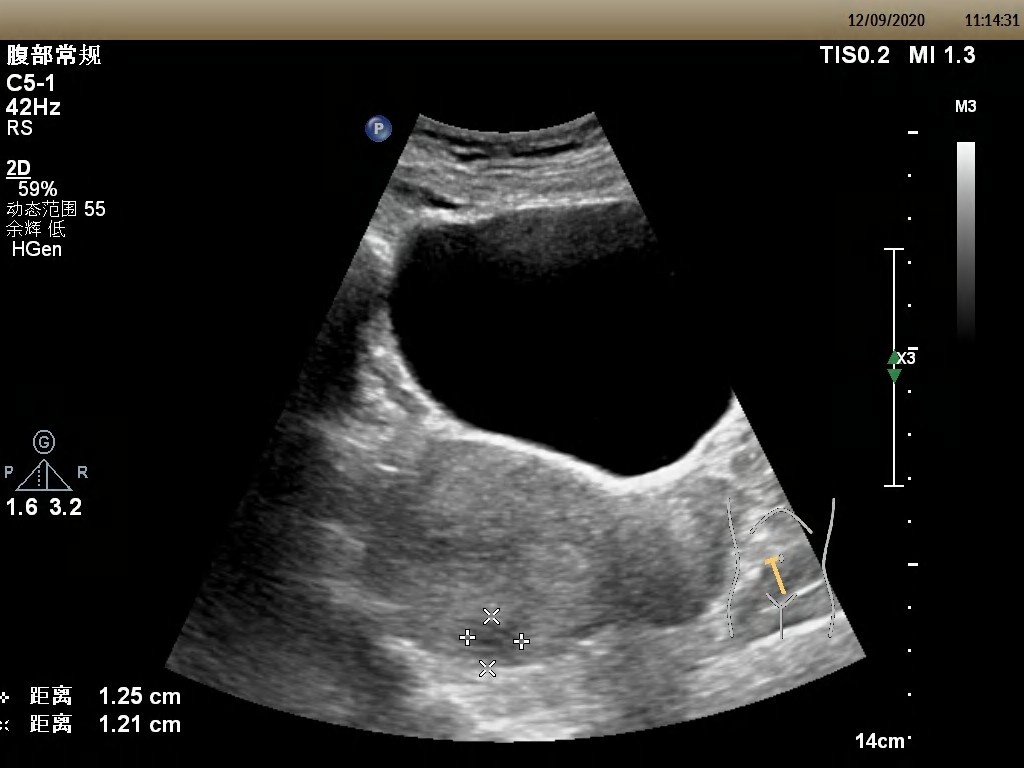肌瘤: (466, 616, 520, 666)
